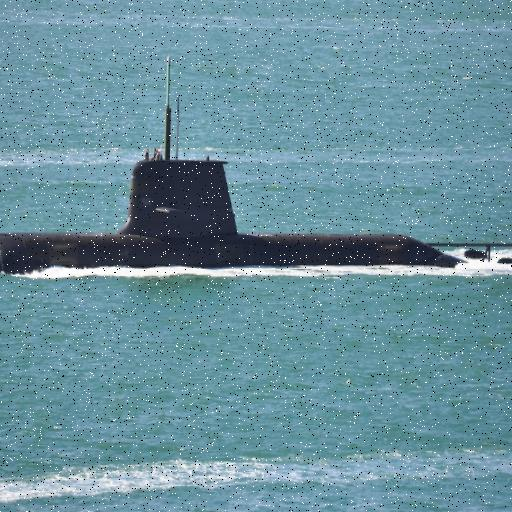submarine: (1, 159, 512, 268)
